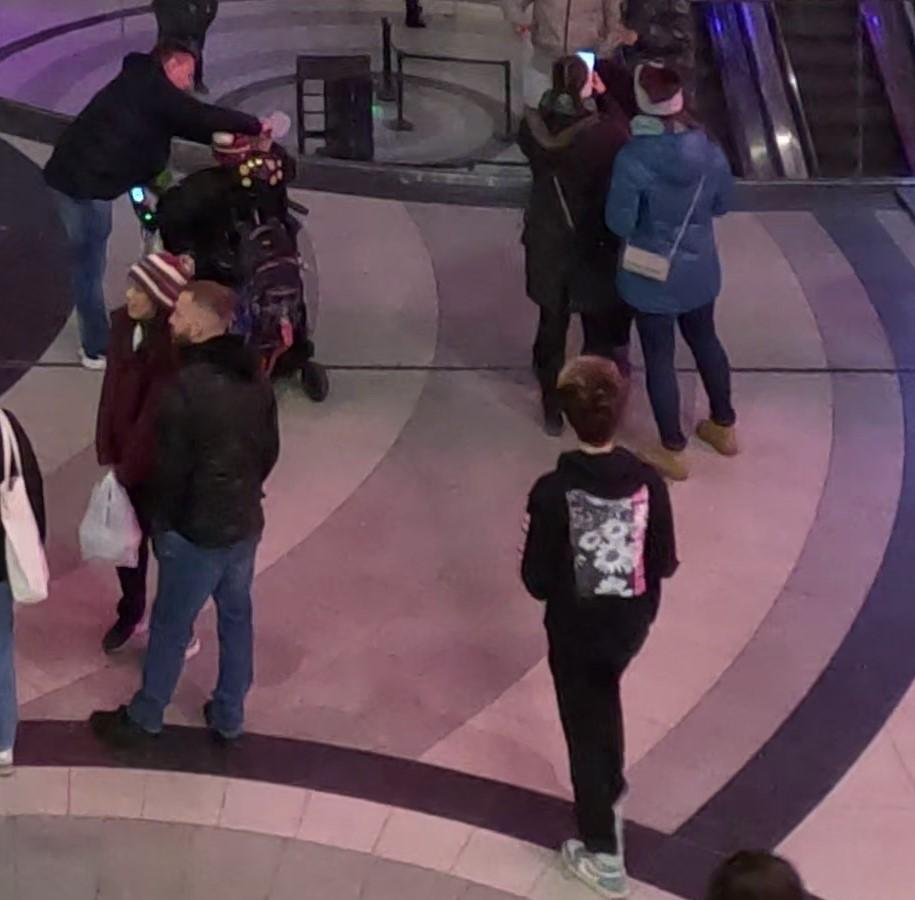person: (519, 346, 690, 888), (101, 266, 281, 756), (29, 41, 265, 347), (604, 55, 738, 456), (519, 24, 638, 430), (97, 249, 201, 582)
